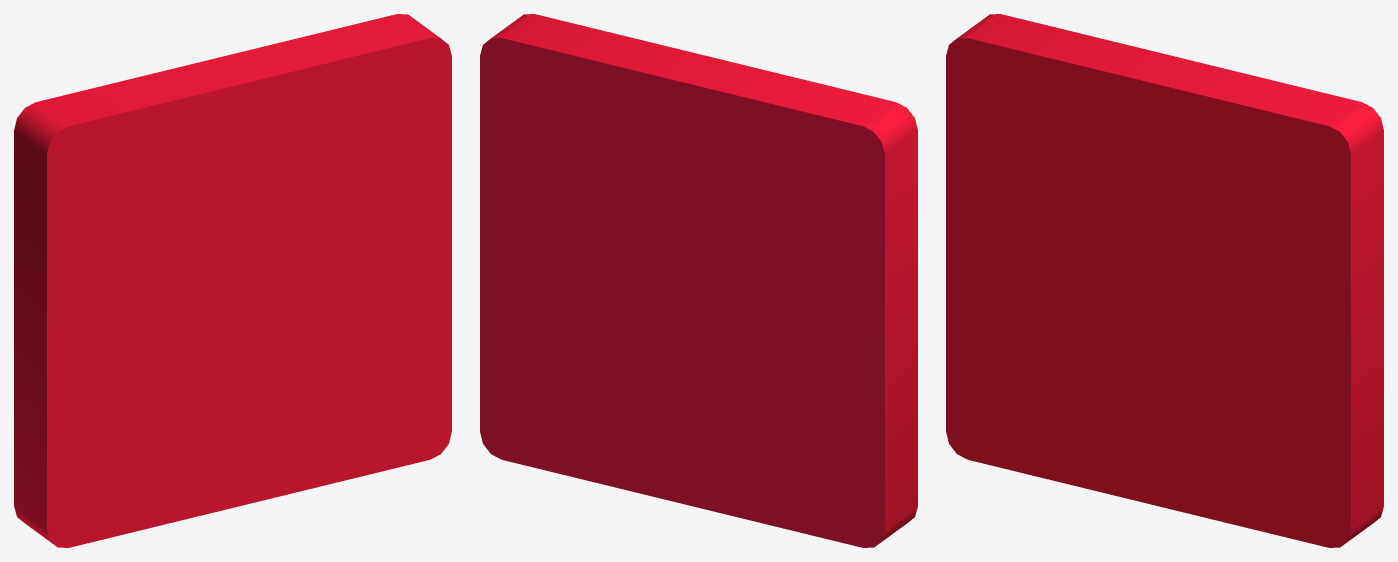
Rendered from buy_btn.glb.
3 renders of one model, left to right at view 1: azimuth 30°, elevation 25°; view 2: azimuth 150°, elevation 25°; view 3: azimuth 330°, elevation 25°, orthographic.
Parts seen in each view (by area): view 1: jump_in_btn.001; view 2: jump_in_btn.001; view 3: jump_in_btn.001.
Part boxes in pixels (<box>): jump_in_btn.001: <box>14,14,451,547</box>; jump_in_btn.001: <box>480,14,917,547</box>; jump_in_btn.001: <box>946,14,1383,547</box>.
Bounding box in the file's own units: 0.8306 × 0.8266 × 0.117.
Materials: 1 (1 with a texture image).
